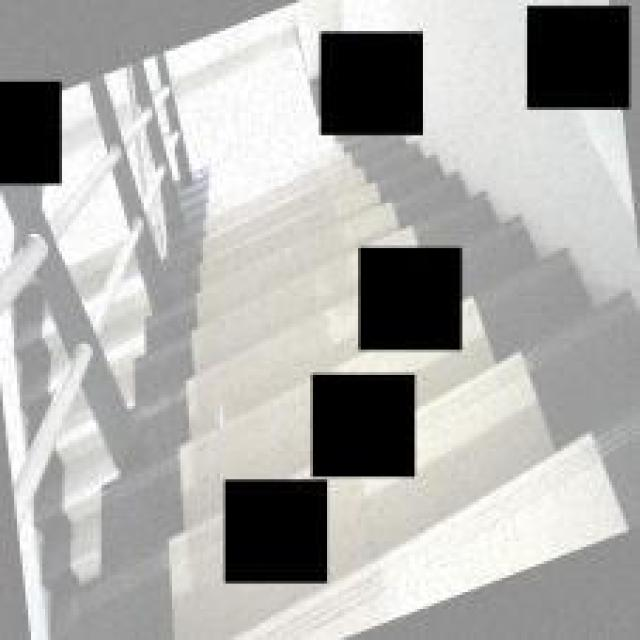downstair: (184, 212, 311, 469)
